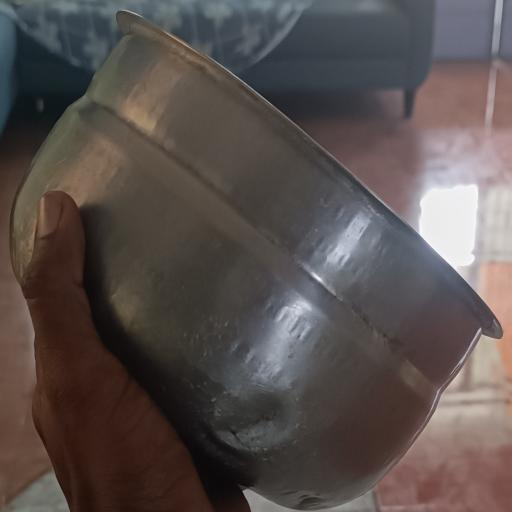vessel: (11, 11, 501, 508)
